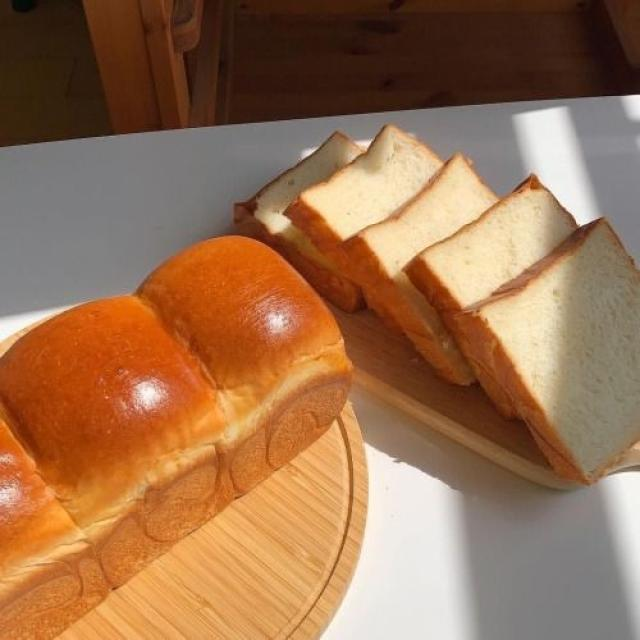sliced_bread: (465, 219, 639, 481), (406, 174, 576, 416), (344, 154, 495, 383), (234, 132, 362, 311), (285, 125, 442, 247)
